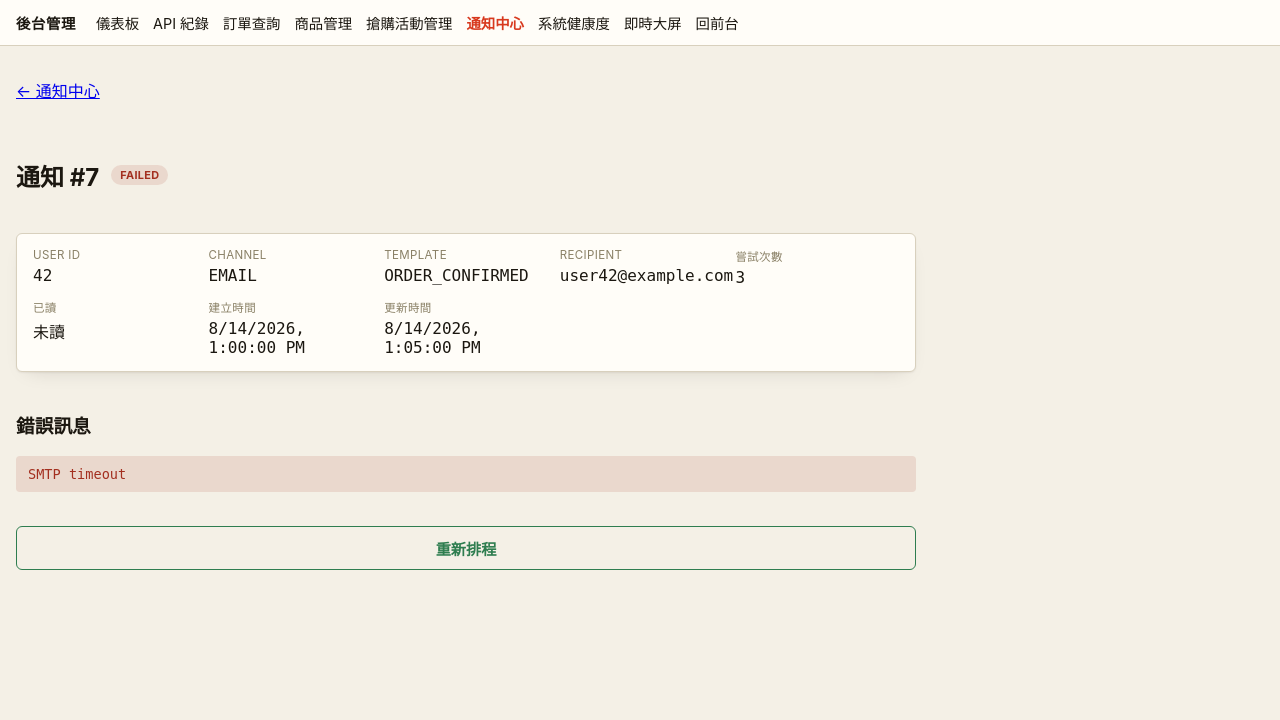
Test: AdminNotificationDetailPage › shows an error message when the retry request fails
expect the text "user42@example.com" is shown: met, box [560,266,723,285]
Click the button "重新排程" at point(466, 548), box [16,526,916,570]
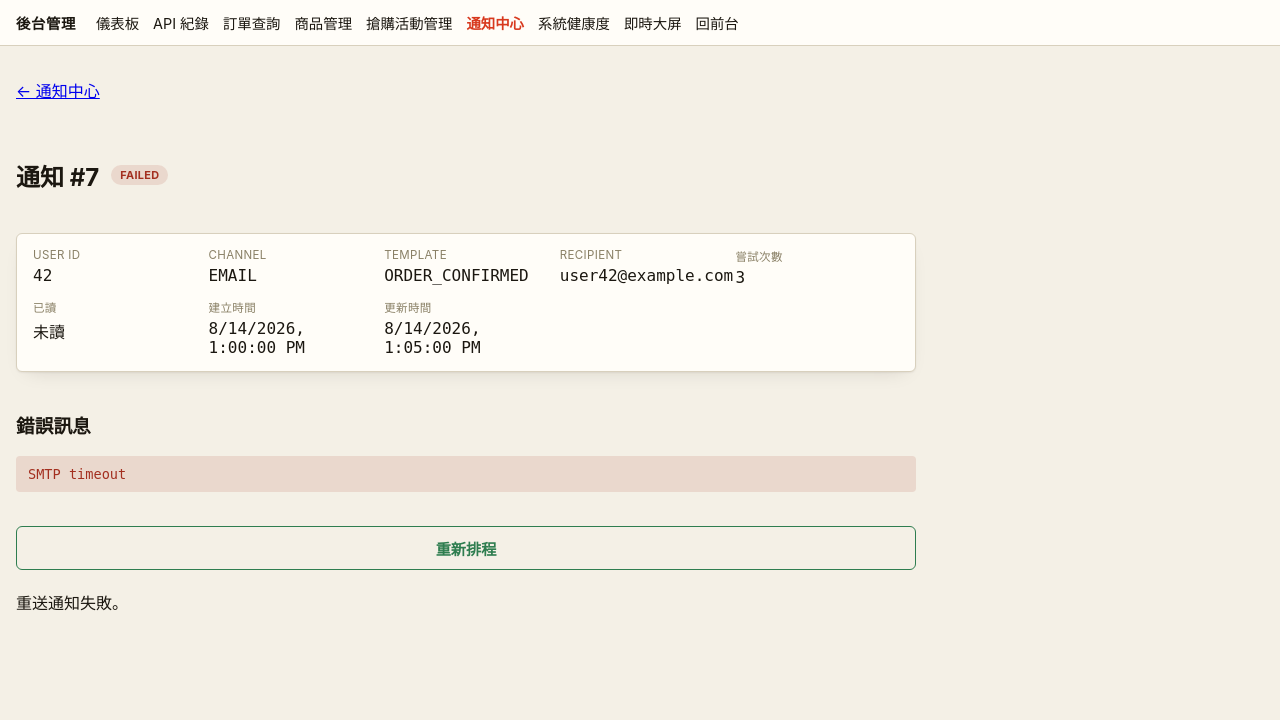
expect the message reads "重送通知失敗。": met, box [16,593,128,613]
